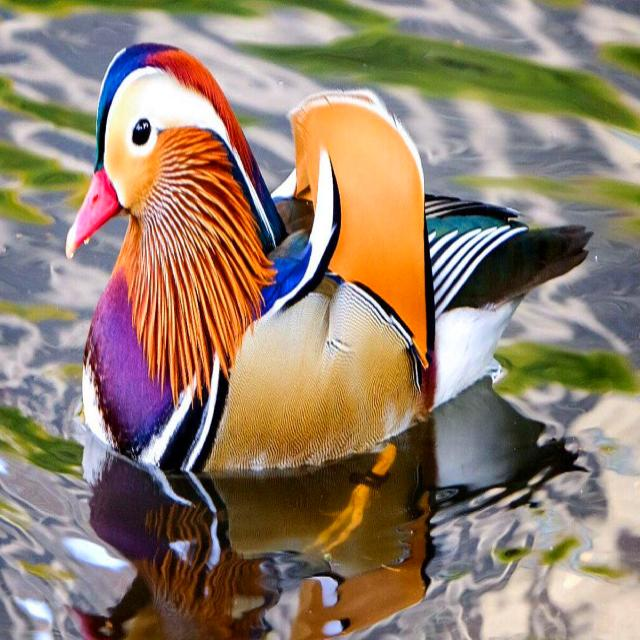duck: (66, 44, 592, 474)
